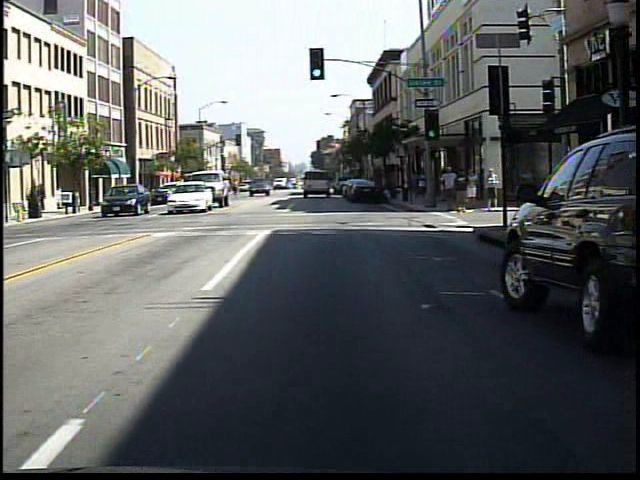person: (439, 164, 458, 214), (452, 168, 471, 213), (482, 166, 499, 213), (463, 168, 480, 213), (413, 165, 431, 207), (227, 174, 245, 202)
